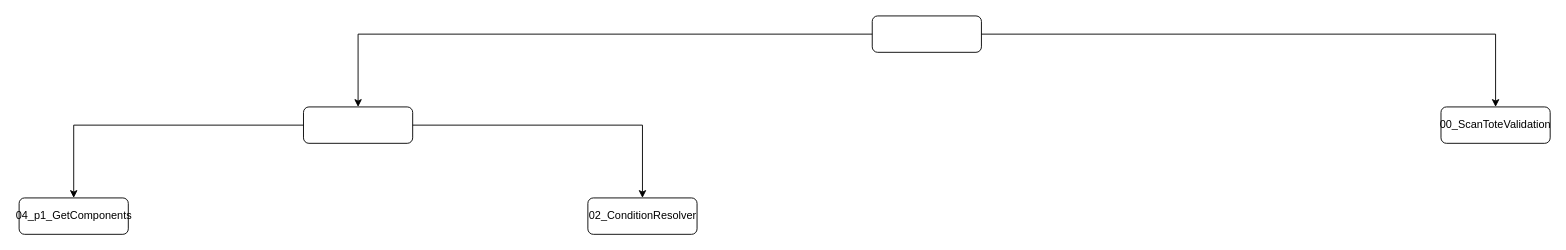
This 1566x250 diagram has some shape labels left out. The centre of each missing label's shape, as x and y in pixels:
"03_p1_GetFlow" goes at (358,124).
"Copy of 02_p1_GetTote" goes at (926,33).
